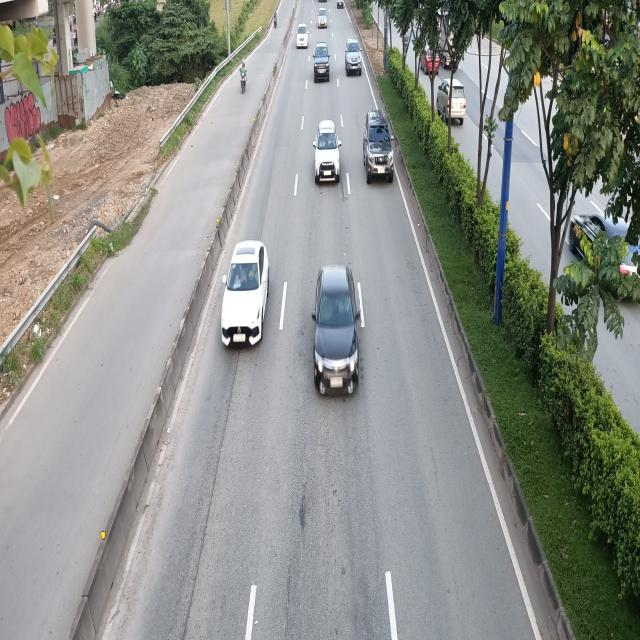car: (313, 263, 362, 398), (220, 240, 270, 348), (362, 111, 394, 184), (313, 119, 341, 183), (314, 42, 332, 84), (344, 38, 363, 76), (295, 24, 308, 49), (317, 8, 328, 28)
